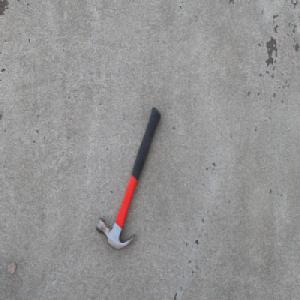Hammer: (95, 105, 161, 251)
